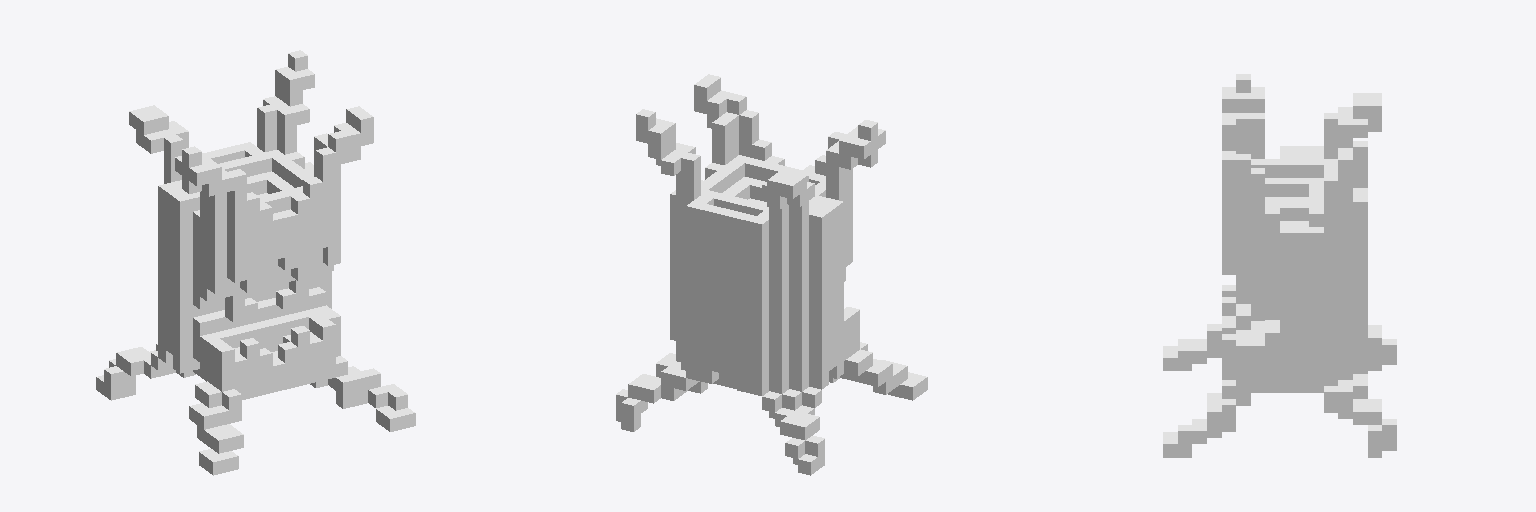
The model's file is Treevil.obj.
3 views of the same model, side by side, from view 1: azimuth 30°, elevation 25°; view 2: azimuth 150°, elevation 25°; view 3: azimuth 270°, elevation 25° (orthographic).
Visible parts, largest first — view 1: object 1; view 2: object 1; view 3: object 1.
Boxes of the visible parts, x1=… form: object 1: x1=96, y1=50, x2=415, y2=475; object 1: x1=616, y1=74, x2=927, y2=475; object 1: x1=1163, y1=74, x2=1396, y2=457.
Size of the model in its own units: 1.6 by 2.3 by 1.6.